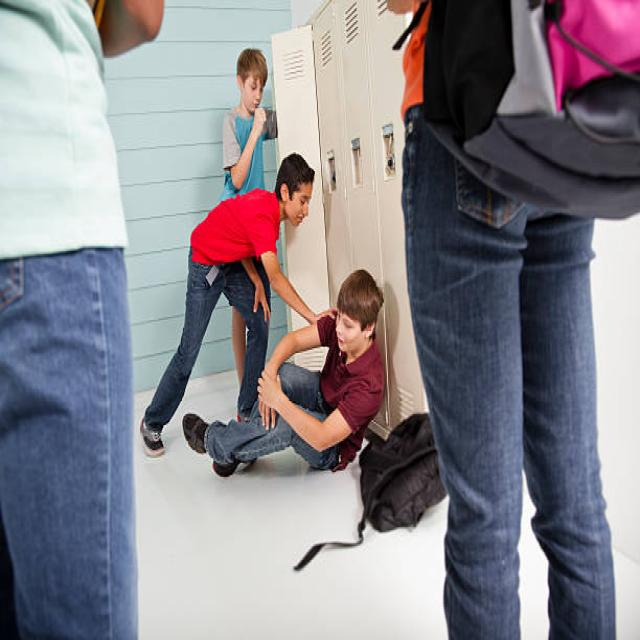fight: (136, 154, 388, 476)
